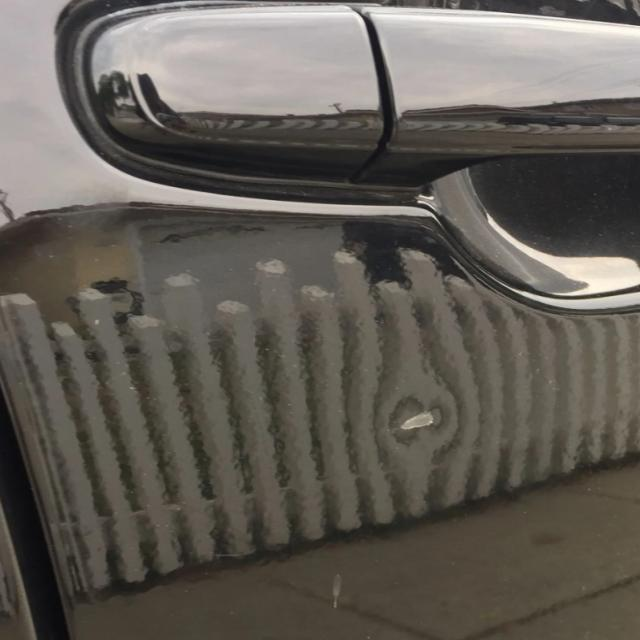dents: (371, 352, 490, 483)
